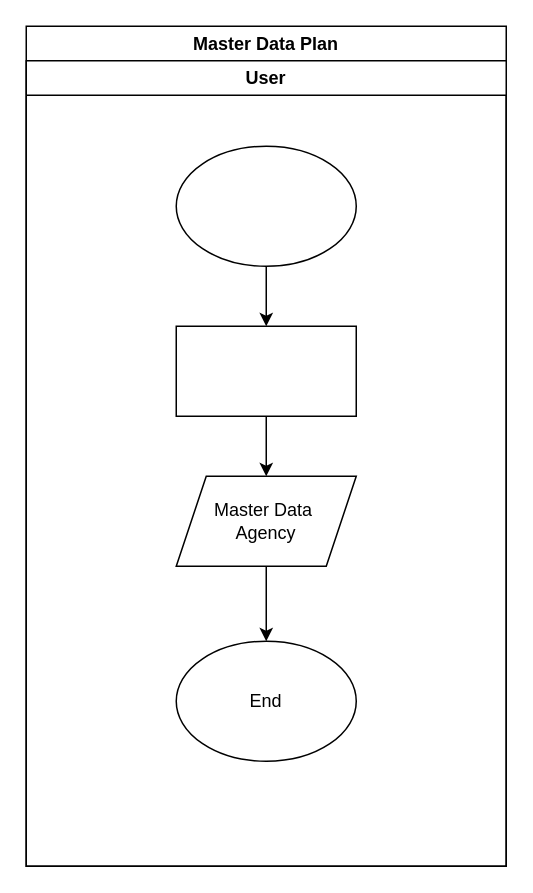
This 533x893 diagram has some shape labels left out. Each missing label, with the centre of its shape:
Create Master Data Plan: the point at 265,370
Start: the point at 265,205
